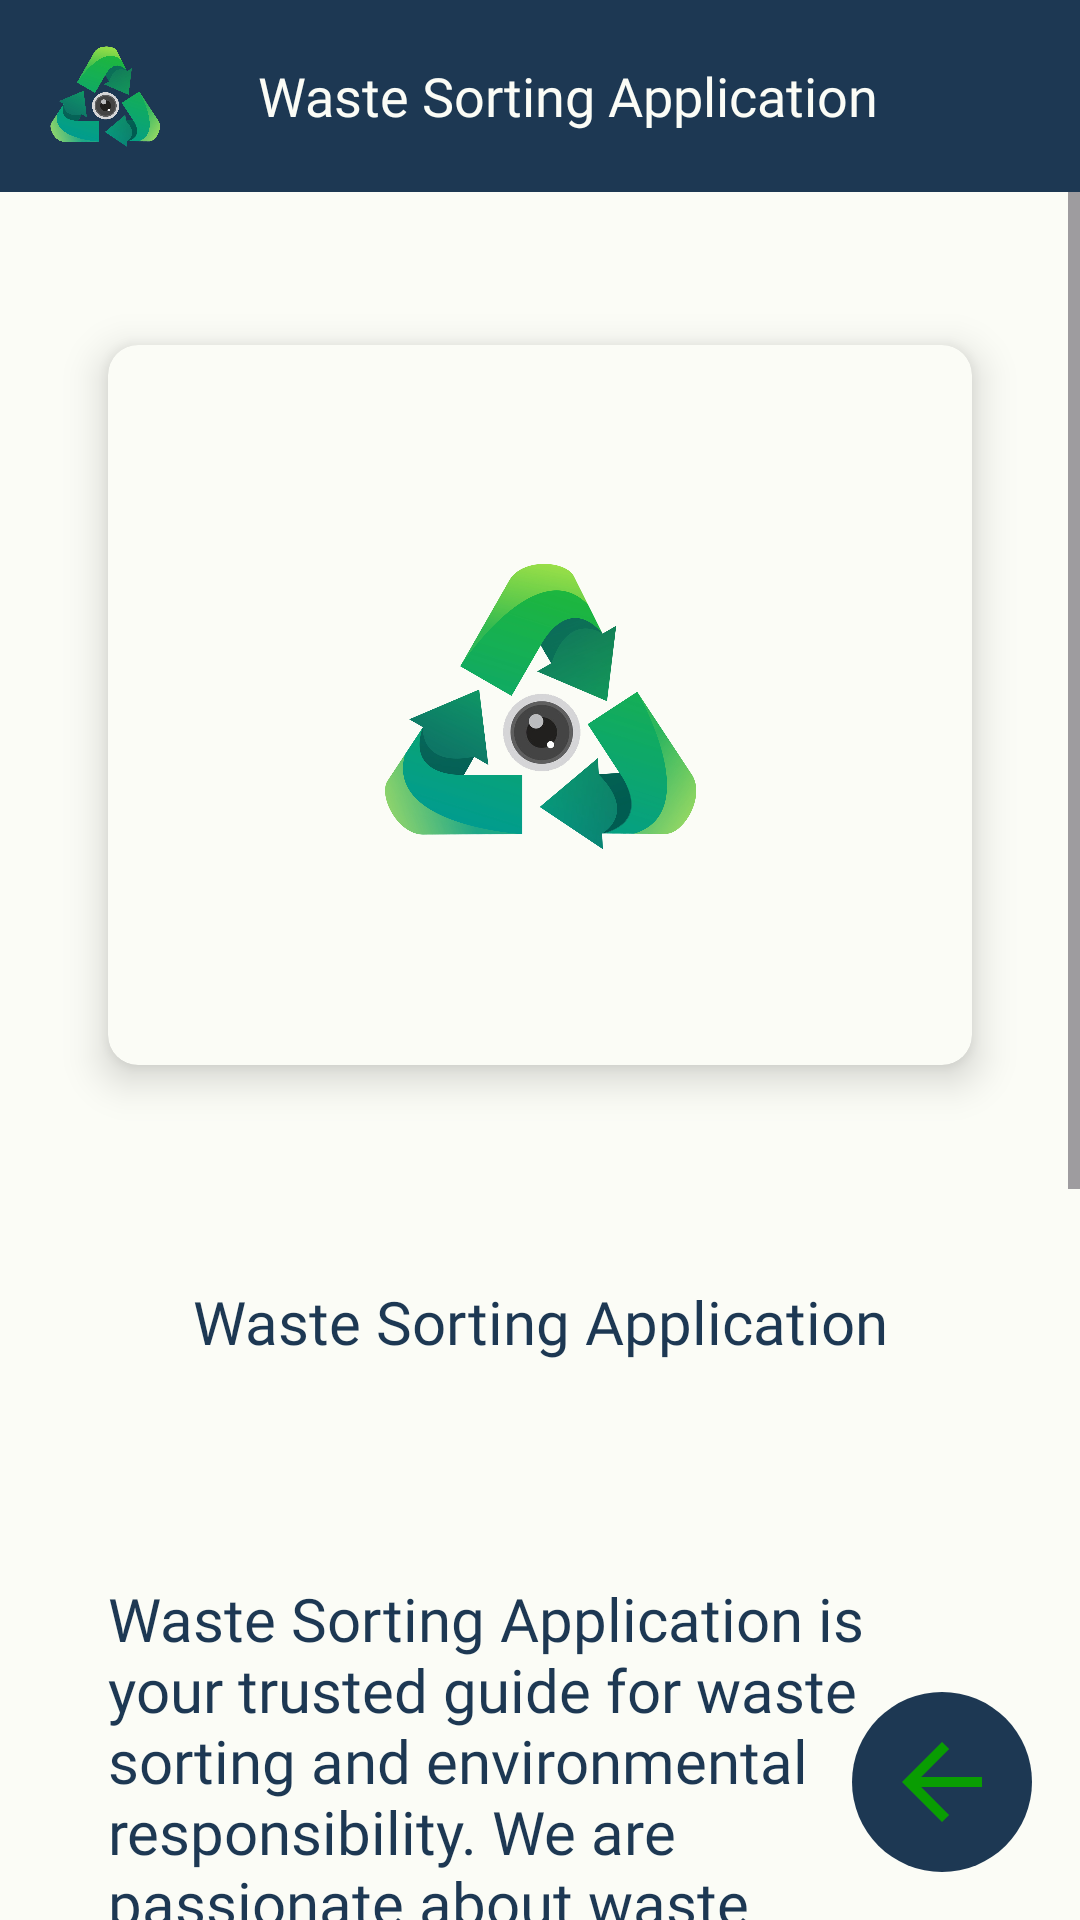

Named icons in this screenshot (1080px×1920px) and their bounding boxes, (x1, y1, x2, y2):
arrow back: (852, 1692, 1032, 1872)
